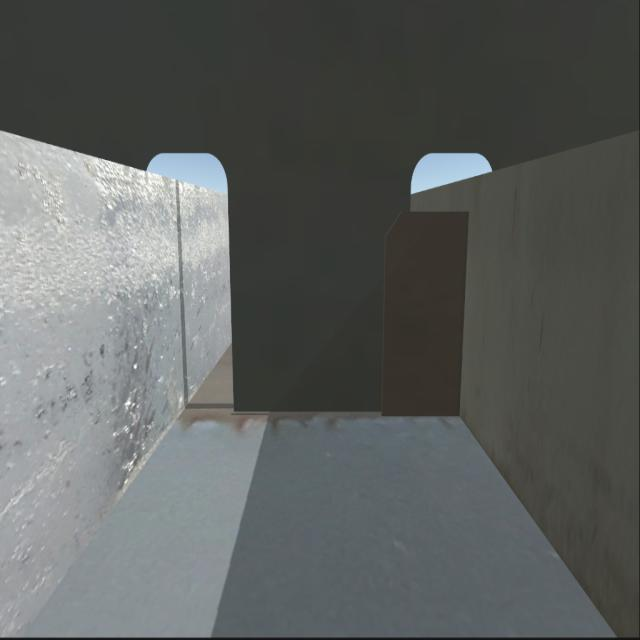fillet_yong_jeop_jang: (232, 407, 457, 428)
longi_yong_jeop_jang: (450, 219, 470, 417)
plate_CP03: (379, 202, 468, 421)
